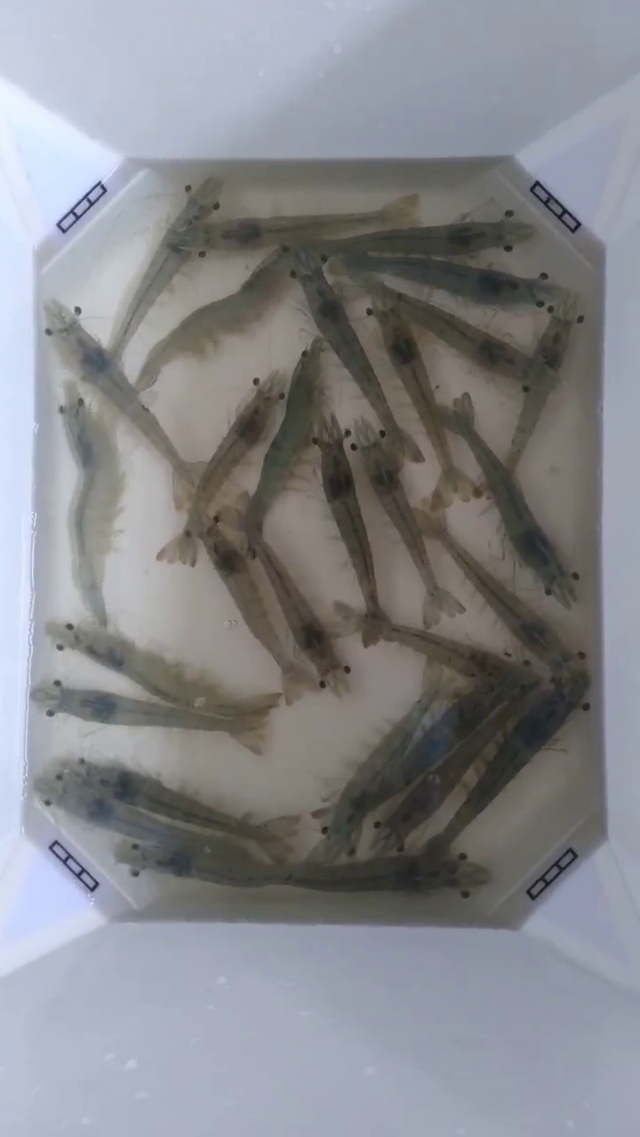shrimp: (525, 126, 639, 500), (529, 427, 639, 737), (162, 463, 282, 660), (444, 393, 558, 577), (571, 508, 639, 797), (406, 779, 526, 927), (33, 761, 153, 907), (473, 304, 574, 470), (120, 177, 222, 341), (0, 534, 65, 774), (45, 300, 158, 429), (339, 356, 424, 526), (35, 205, 138, 344), (22, 680, 101, 859), (450, 542, 563, 664), (322, 202, 424, 335), (283, 751, 374, 890), (51, 611, 162, 722), (454, 196, 549, 305), (207, 369, 290, 477), (281, 601, 364, 705)
